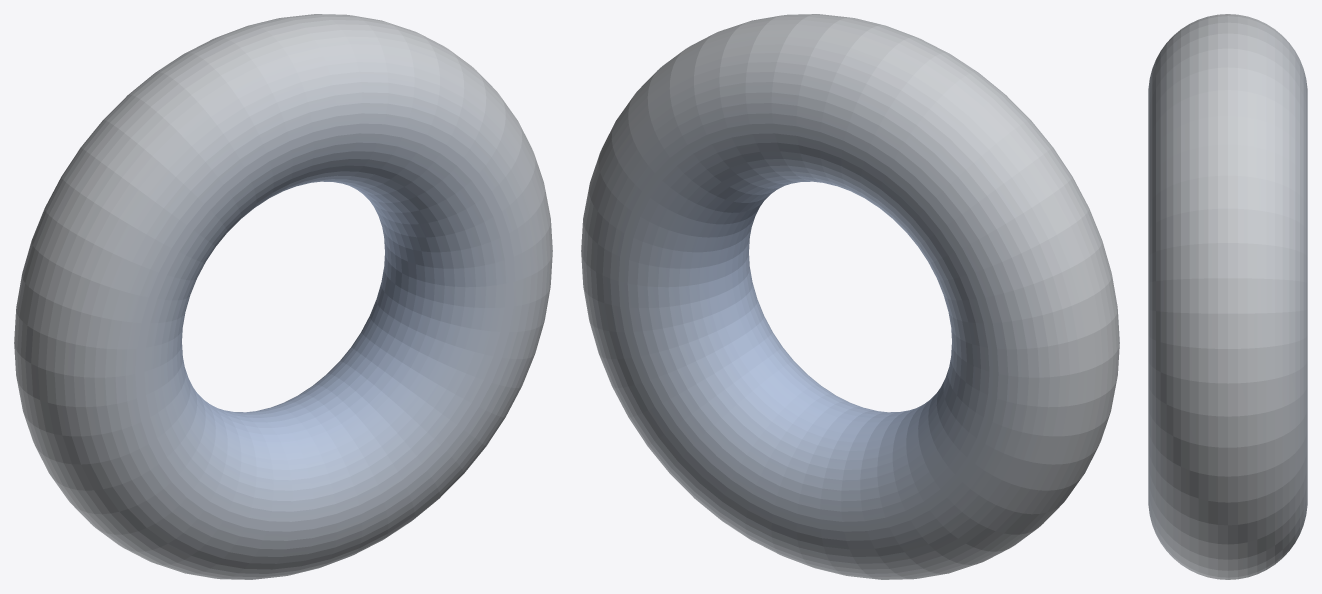
3 views of the same model, side by side, from view 1: azimuth 30°, elevation 25°; view 2: azimuth 150°, elevation 25°; view 3: azimuth 270°, elevation 25° (orthographic). The views are drawn at different scales.
Visible parts, largest first — view 1: world; view 2: world; view 3: world.
Boxes of the visible parts, box(x1,y1,x2,y2) form: world: box(14, 14, 552, 579); world: box(581, 14, 1119, 579); world: box(1148, 14, 1307, 579).
Size of the model in its own units: 23.2 by 23.15 by 6.52.
